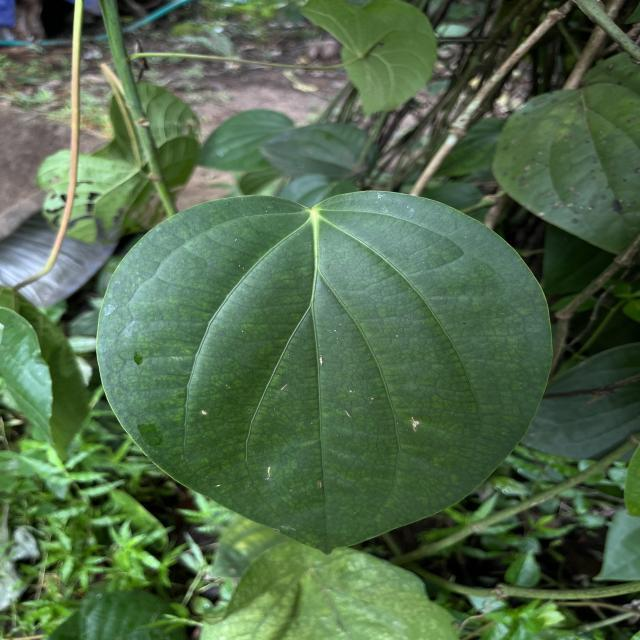Piper nigrum: (95, 188, 556, 558)
